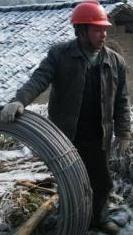boots: (92, 219, 120, 235), (1, 1, 1, 1)
gloves: (0, 100, 24, 123), (0, 101, 9, 116)
hard-hat: (0, 0, 28, 22)
